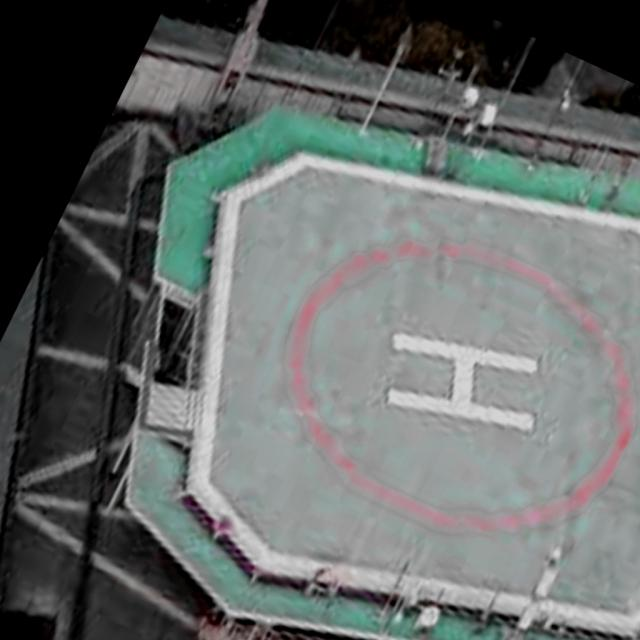helipad: (280, 231, 640, 540)
